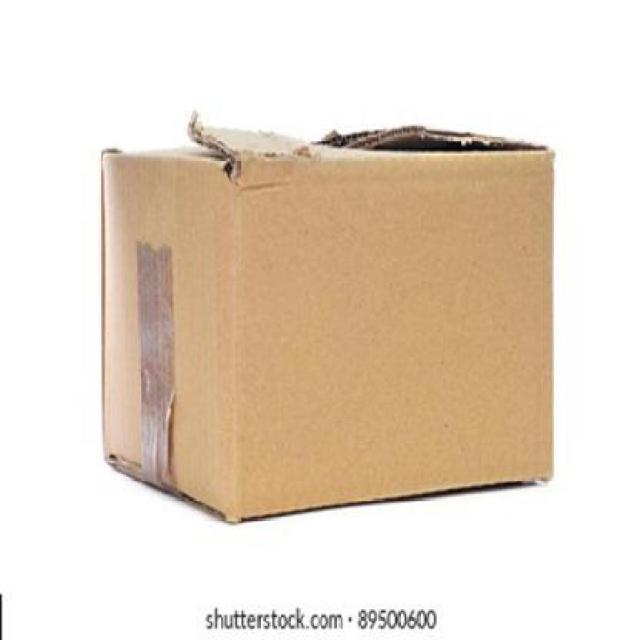defect: (78, 105, 568, 526)
